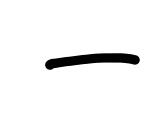minus: (46, 51, 139, 69)
